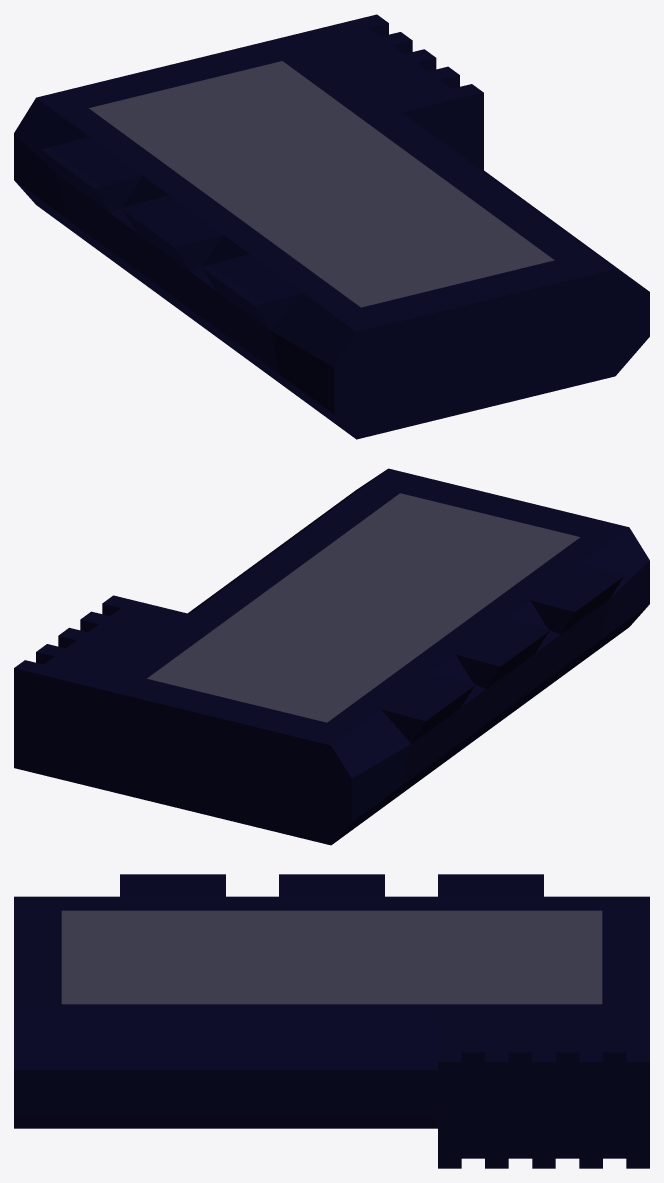
The model's file is battery.fbx.
The picture shows the model from 3 angles, top to bottom: view 1: azimuth 30°, elevation 25°; view 2: azimuth 150°, elevation 25°; view 3: azimuth 270°, elevation 25°; orthographic projection. The views are drawn at different scales.
Parts seen in each view (by area): view 1: Cube; view 2: Cube; view 3: Cube.
Boxes of the visible parts, x1,y1,x2,y2 form: Cube: (14,14,649,439); Cube: (14,468,649,845); Cube: (14,874,649,1168).
Size of the model in its own units: 140 by 36.99 by 200.
